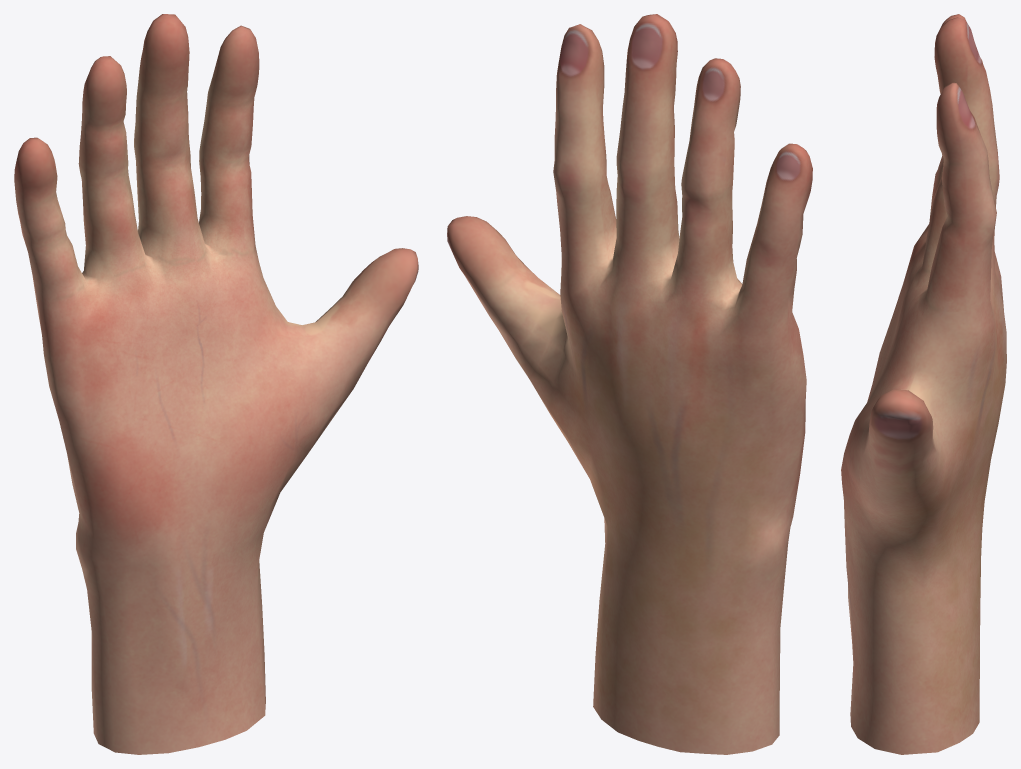
File: human_hand_3d_model.glb
The picture shows the model from 3 angles, left to right: view 1: azimuth 30°, elevation 25°; view 2: azimuth 150°, elevation 25°; view 3: azimuth 270°, elevation 25°; orthographic projection. The views are drawn at different scales.
Parts seen in each view (by area): view 1: Cylinder; view 2: Cylinder; view 3: Cylinder.
Part boxes in pixels (bbox=[...]): Cylinder: bbox=[14, 14, 418, 754]; Cylinder: bbox=[447, 14, 812, 754]; Cylinder: bbox=[841, 14, 1006, 754].
Bounding box in the file's own units: 2.21 × 3.96 × 0.8393.
1 material, 1 textured.
